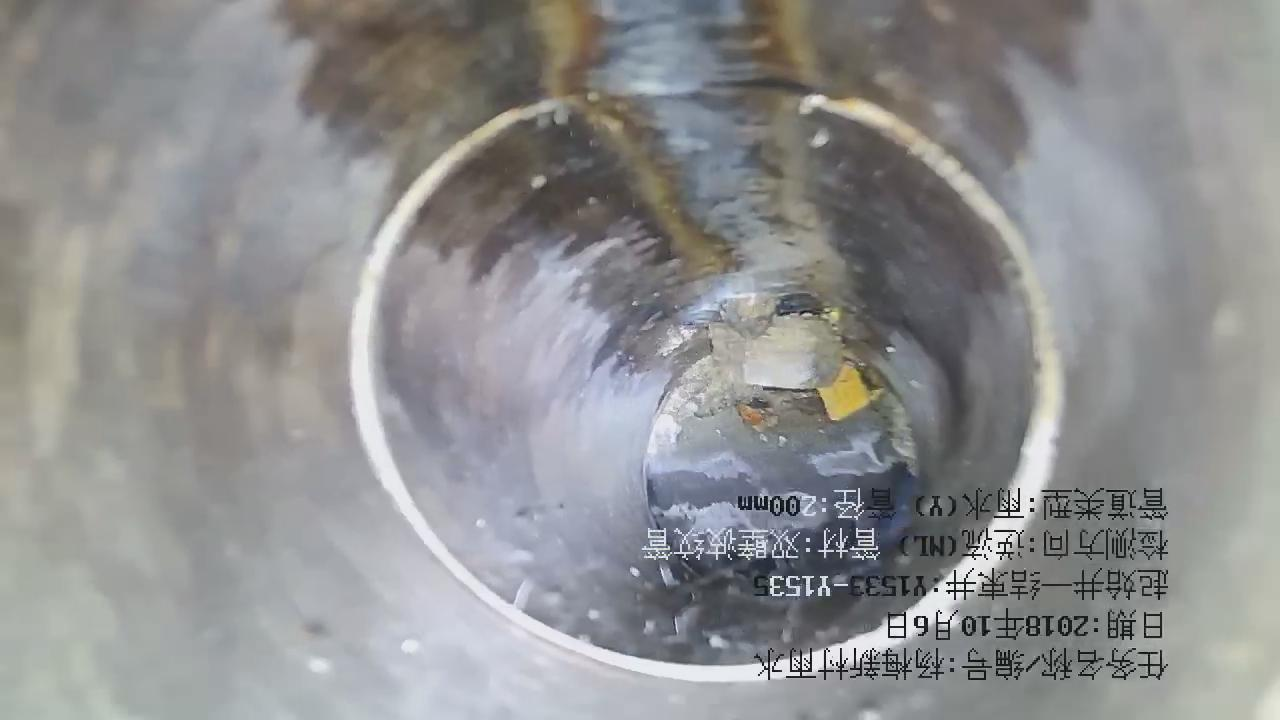CJ: (653, 310, 909, 476)
CKTJ: (343, 83, 1076, 686)
